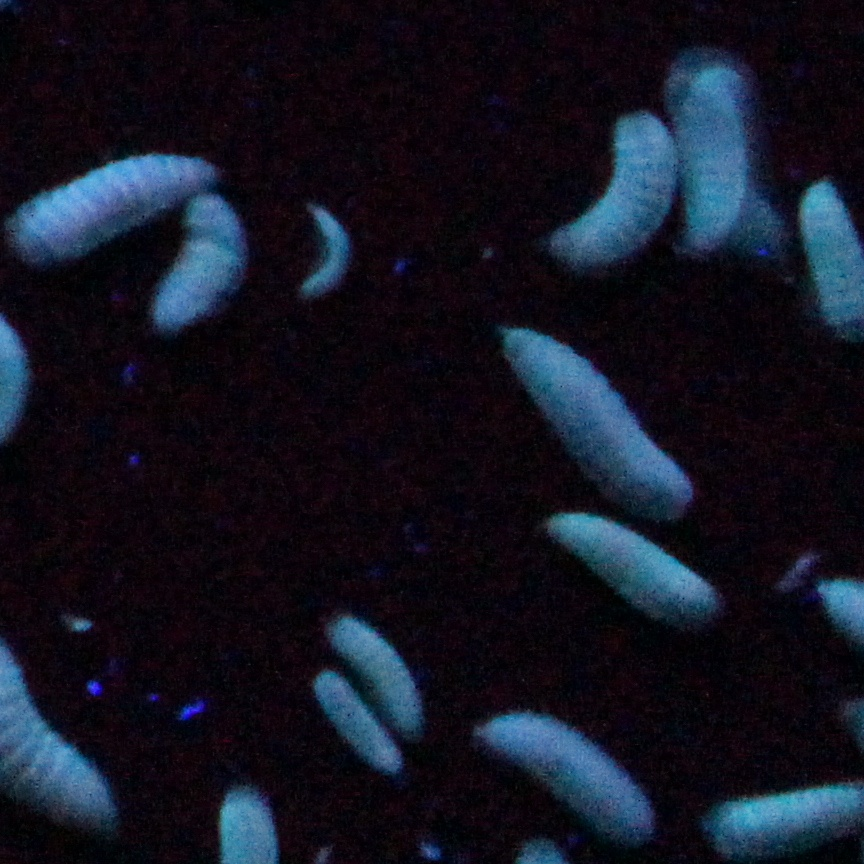larve: (489, 319, 689, 508), (476, 706, 645, 830), (9, 155, 211, 257), (543, 516, 716, 622), (560, 108, 676, 263), (152, 188, 253, 330), (683, 52, 753, 248), (329, 608, 420, 729), (306, 668, 396, 771), (293, 196, 348, 303)
